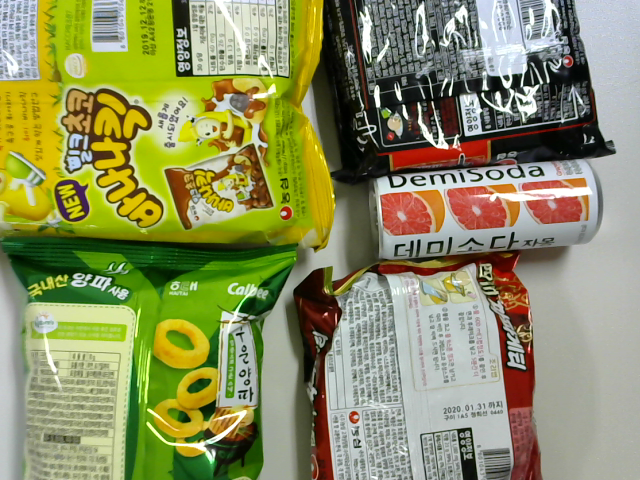Banana_Kick: (3, 2, 345, 246)
Demisoda_Grapefruit_Can_250ml: (359, 156, 611, 272)
Grilled_Onions: (7, 246, 290, 480)
Sichuan_Chapaghetti: (293, 258, 551, 480)
Sinramen_Black: (323, 8, 605, 174)
